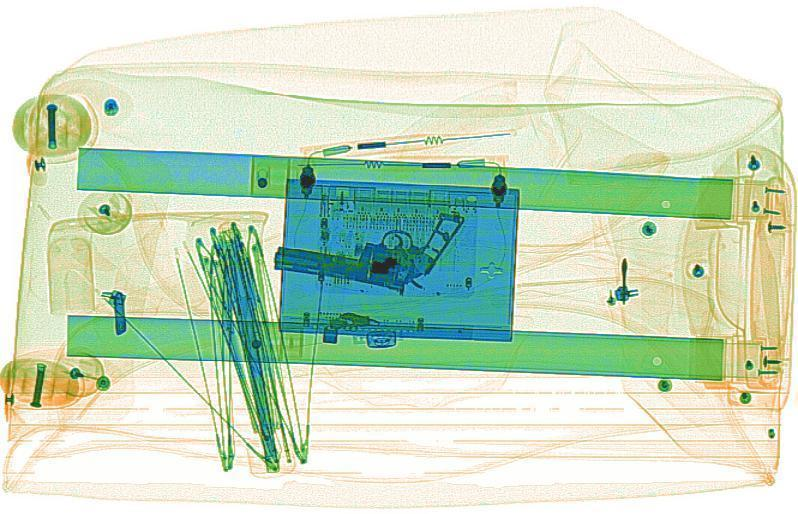Gun: (264, 185, 467, 297)
